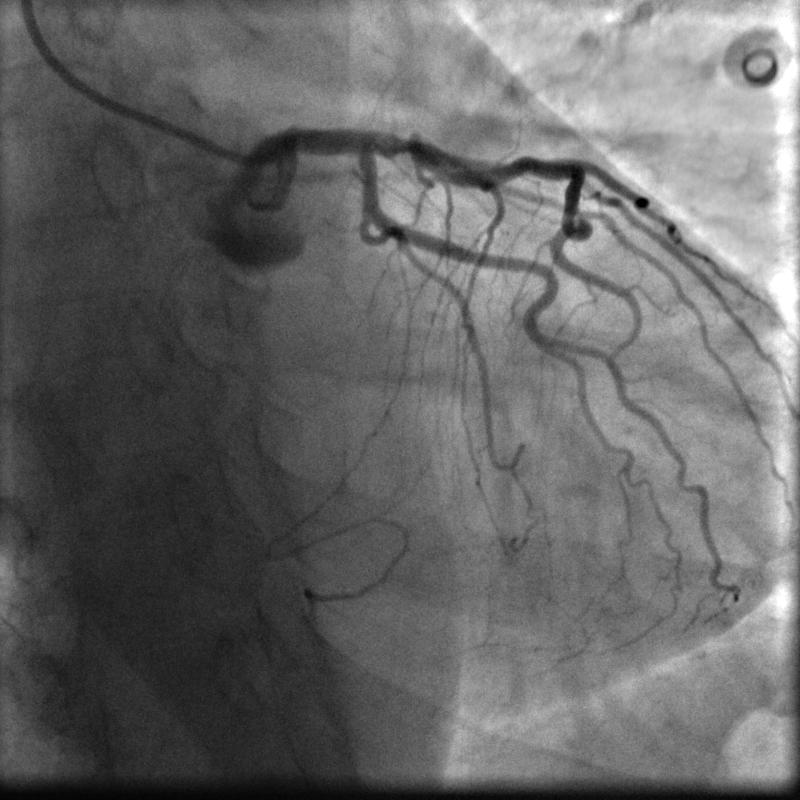Stenosis: (387, 128, 415, 158)
